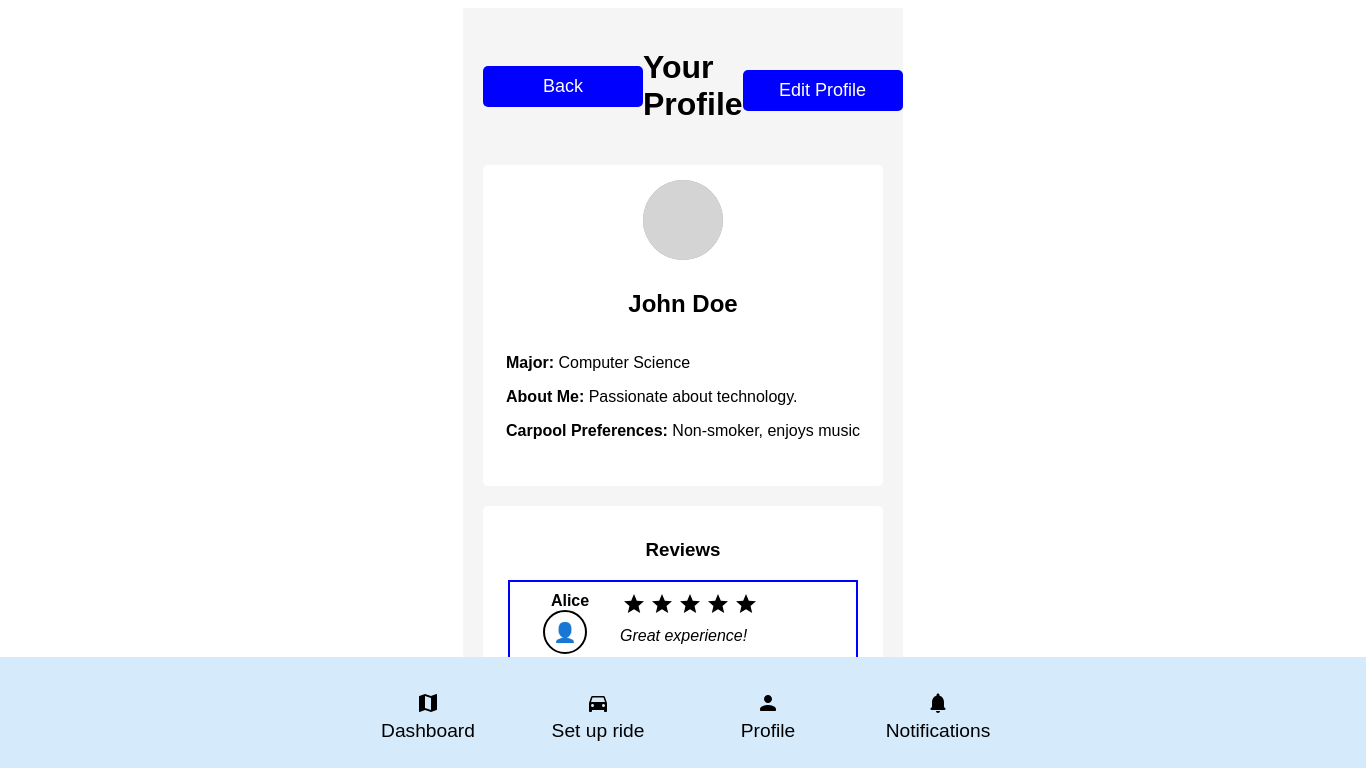
Test case: ProfilePage Component Tests › should create text input fields when edit profile is clicked
This screenshot has width=1366, height=768.
Click the button "Edit Profile".
click(823, 90)  # box [743, 70, 903, 111]
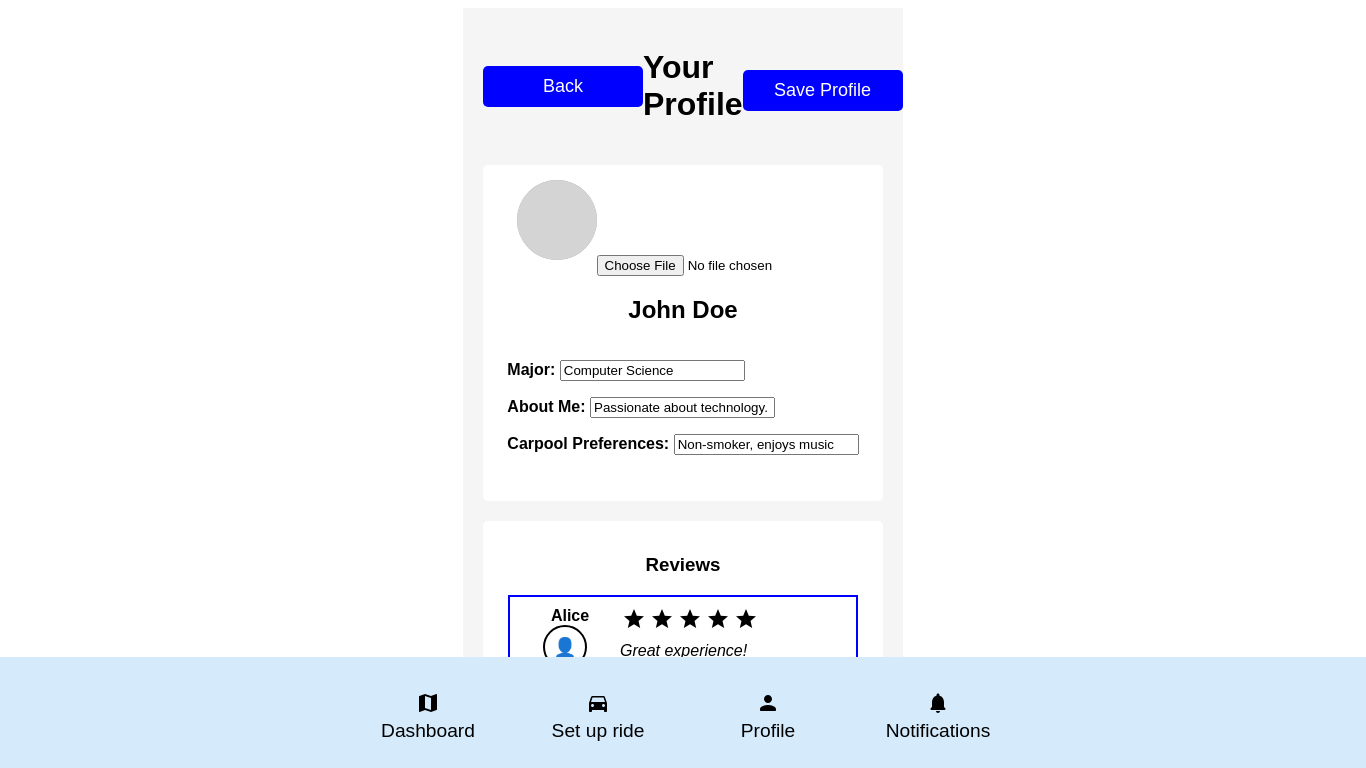
Expected: the number of fields is 3, [560, 360, 745, 381]; [590, 397, 775, 418]; [674, 434, 859, 455]
